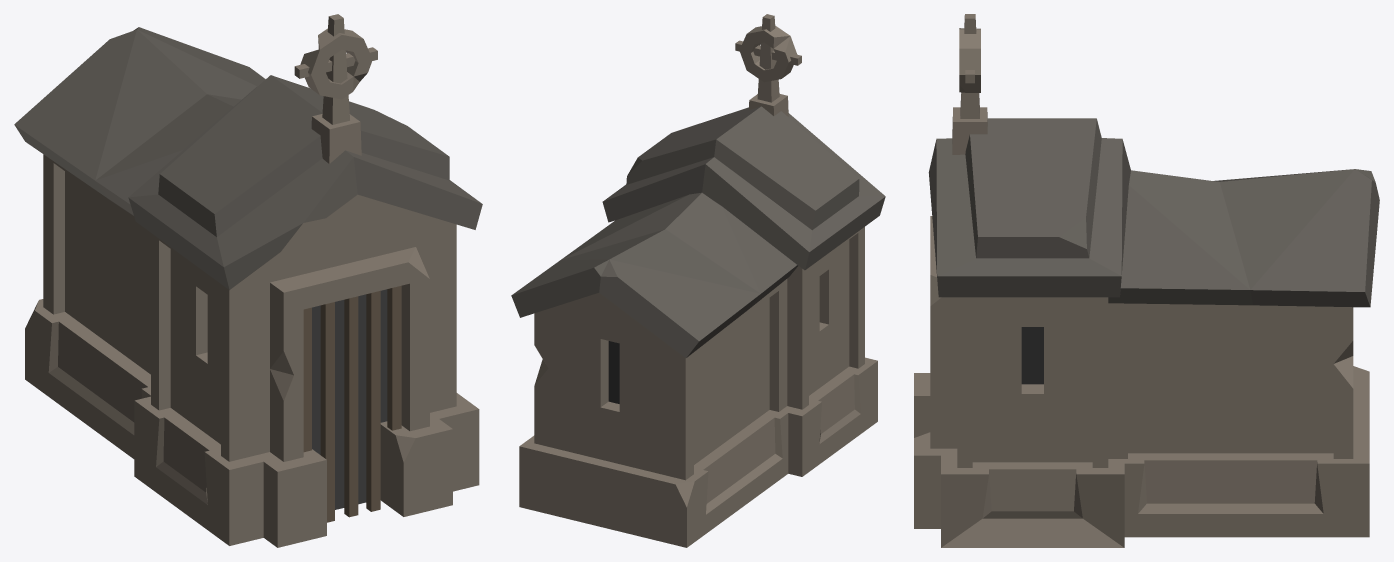
The model's file is SM_Prop_Grave_05.fbx.
3 views of the same model, side by side, from view 1: azimuth 30°, elevation 25°; view 2: azimuth 150°, elevation 25°; view 3: azimuth 270°, elevation 25° (orthographic). The views are drawn at different scales.
Visible parts, largest first — view 1: SM_Prop_Grave_05; view 2: SM_Prop_Grave_05; view 3: SM_Prop_Grave_05.
Boxes of the visible parts, left/top/right/bottom form: SM_Prop_Grave_05: left=14, top=14, right=482, bottom=547; SM_Prop_Grave_05: left=511, top=14, right=885, bottom=547; SM_Prop_Grave_05: left=914, top=14, right=1379, bottom=547.
Bounding box in the file's own units: 2.34 × 4.21 × 3.77.
